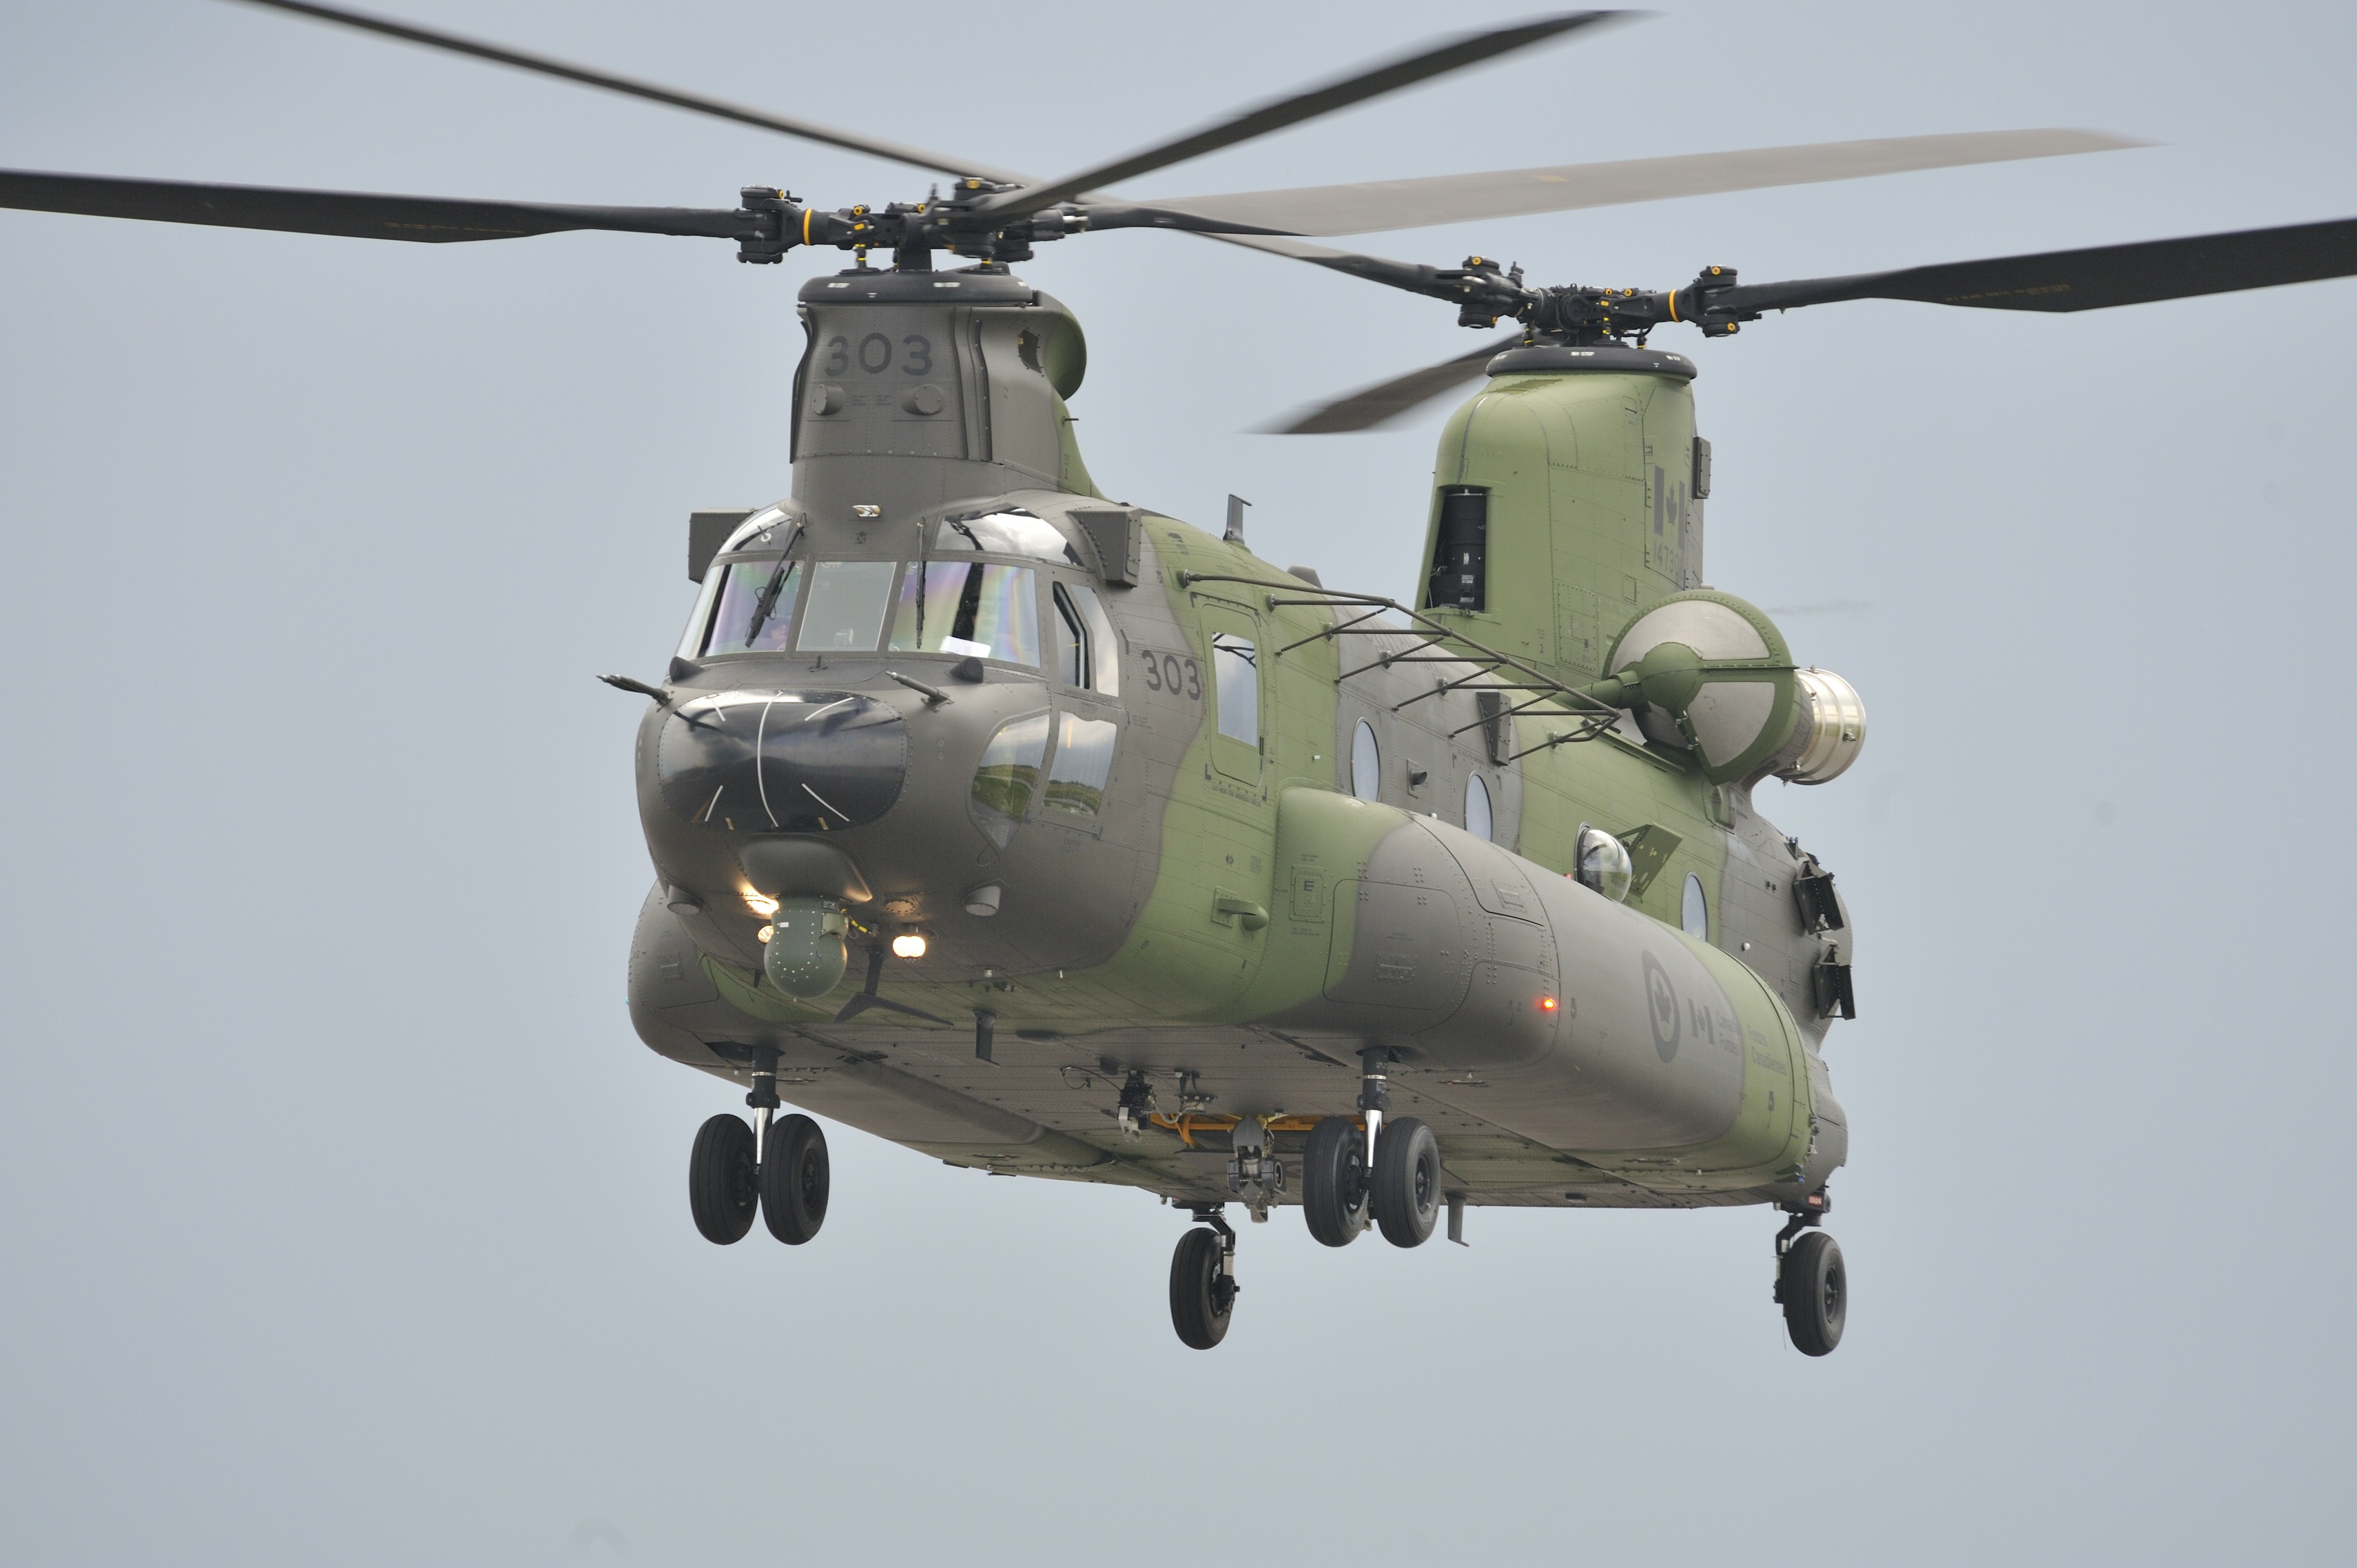chinook: (493, 89, 1977, 1377)
